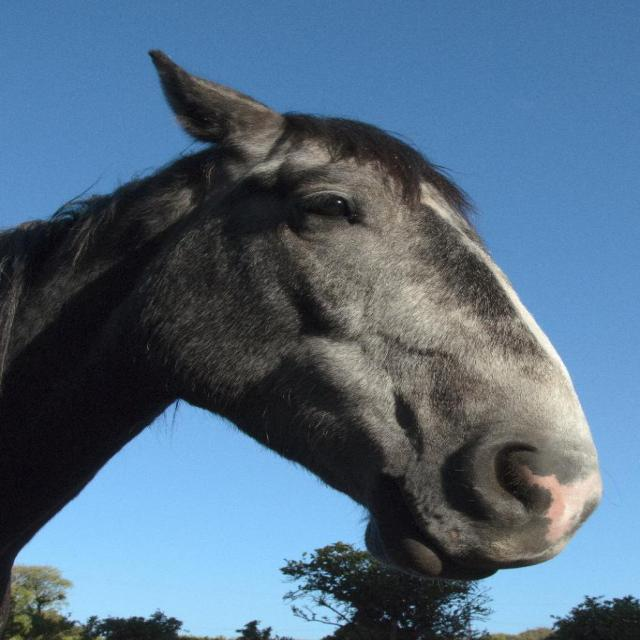Horse: (0, 48, 606, 640)
